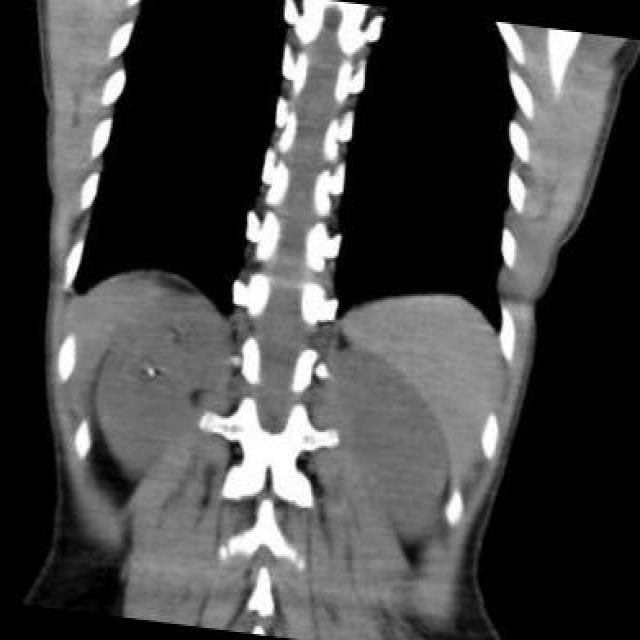Tas_Var: (139, 359, 159, 379)
